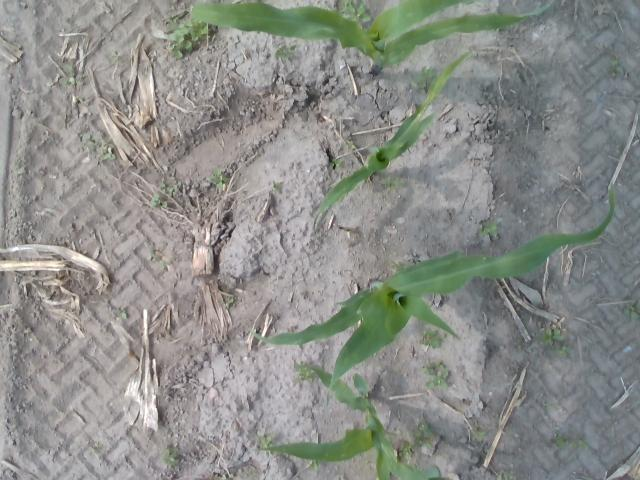Maize: (245, 183, 617, 409), (312, 51, 474, 234), (189, 0, 553, 72), (252, 366, 428, 480)
Weeds: (153, 11, 210, 59), (336, 0, 372, 30), (82, 132, 116, 161), (422, 360, 449, 390), (410, 65, 438, 89), (58, 63, 84, 87), (416, 328, 444, 348), (413, 423, 433, 450), (159, 176, 182, 196), (295, 360, 314, 384), (209, 168, 230, 188), (540, 328, 562, 347), (622, 298, 640, 321), (478, 218, 498, 237), (380, 176, 403, 192), (161, 446, 179, 466), (274, 44, 296, 59), (606, 59, 624, 77), (570, 436, 590, 452), (398, 442, 414, 460), (158, 255, 178, 268), (256, 434, 274, 448), (150, 192, 168, 206), (424, 465, 441, 478), (552, 434, 567, 448), (496, 469, 515, 480), (391, 260, 408, 272), (471, 431, 489, 442), (555, 344, 569, 357), (272, 180, 284, 194), (110, 50, 122, 64), (112, 308, 127, 318), (344, 140, 357, 150), (309, 459, 320, 470), (330, 158, 342, 168), (226, 297, 236, 308), (544, 403, 558, 410), (14, 158, 20, 166)
